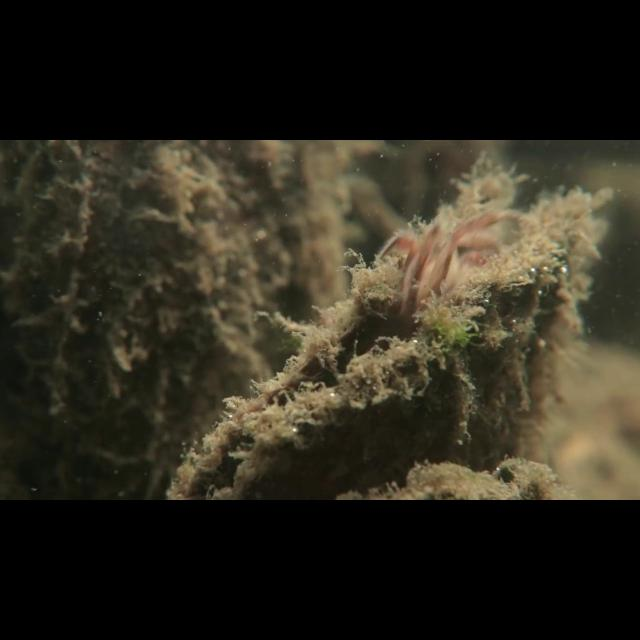Oyster-Open: (181, 195, 583, 497)
